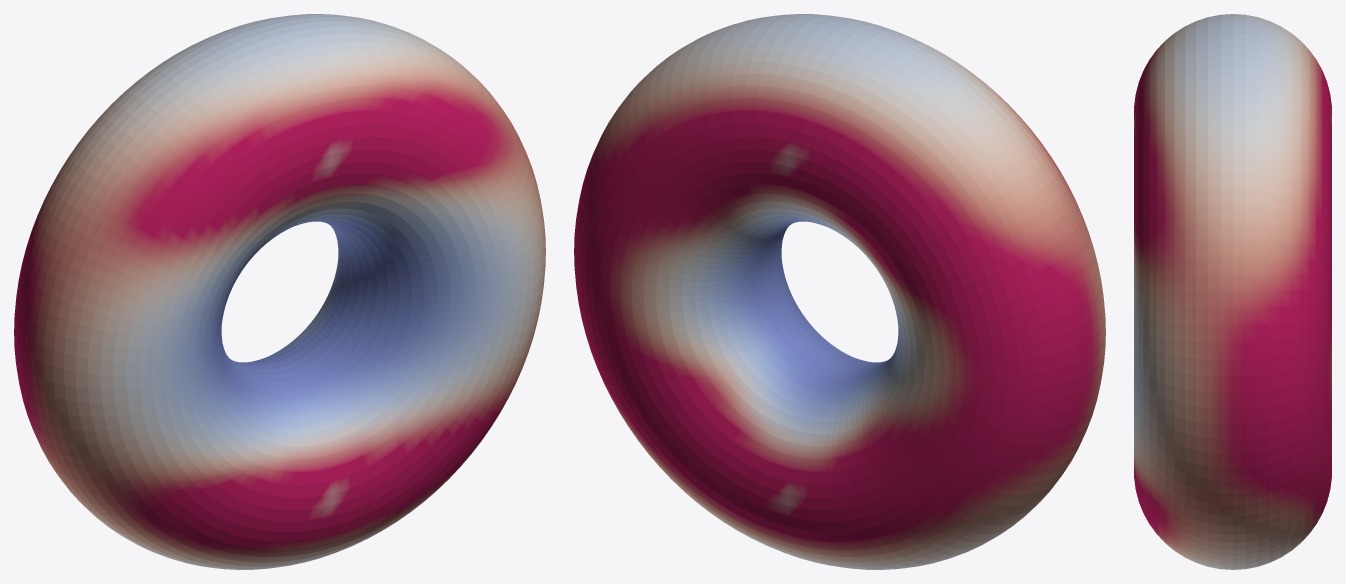
3 renders of one model, left to right at view 1: azimuth 30°, elevation 25°; view 2: azimuth 150°, elevation 25°; view 3: azimuth 270°, elevation 25°, orthographic. The views are drawn at different scales.
Visible parts, largest first — view 1: world; view 2: world; view 3: world.
Boxes of the visible parts, x1,y1,x2,y2 form: world: (14,14,545,569); world: (574,14,1105,569); world: (1134,14,1331,569).
Bounding box in the file's own units: 22.8 × 22.8 × 8.12.
